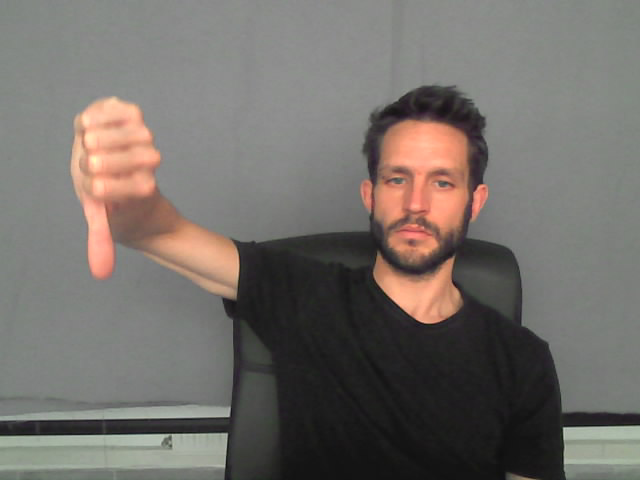thumbsdown: (70, 98, 163, 279)
